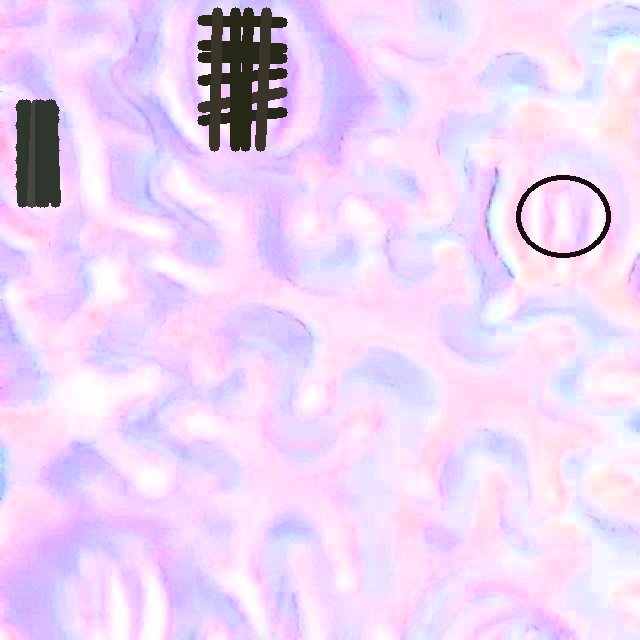close: (198, 7, 287, 150), (514, 174, 612, 258), (16, 100, 58, 207)
